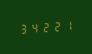four: (29, 21, 39, 34)
one: (62, 18, 72, 32)
three: (18, 21, 28, 35)
two: (40, 20, 50, 33), (51, 19, 61, 32)
